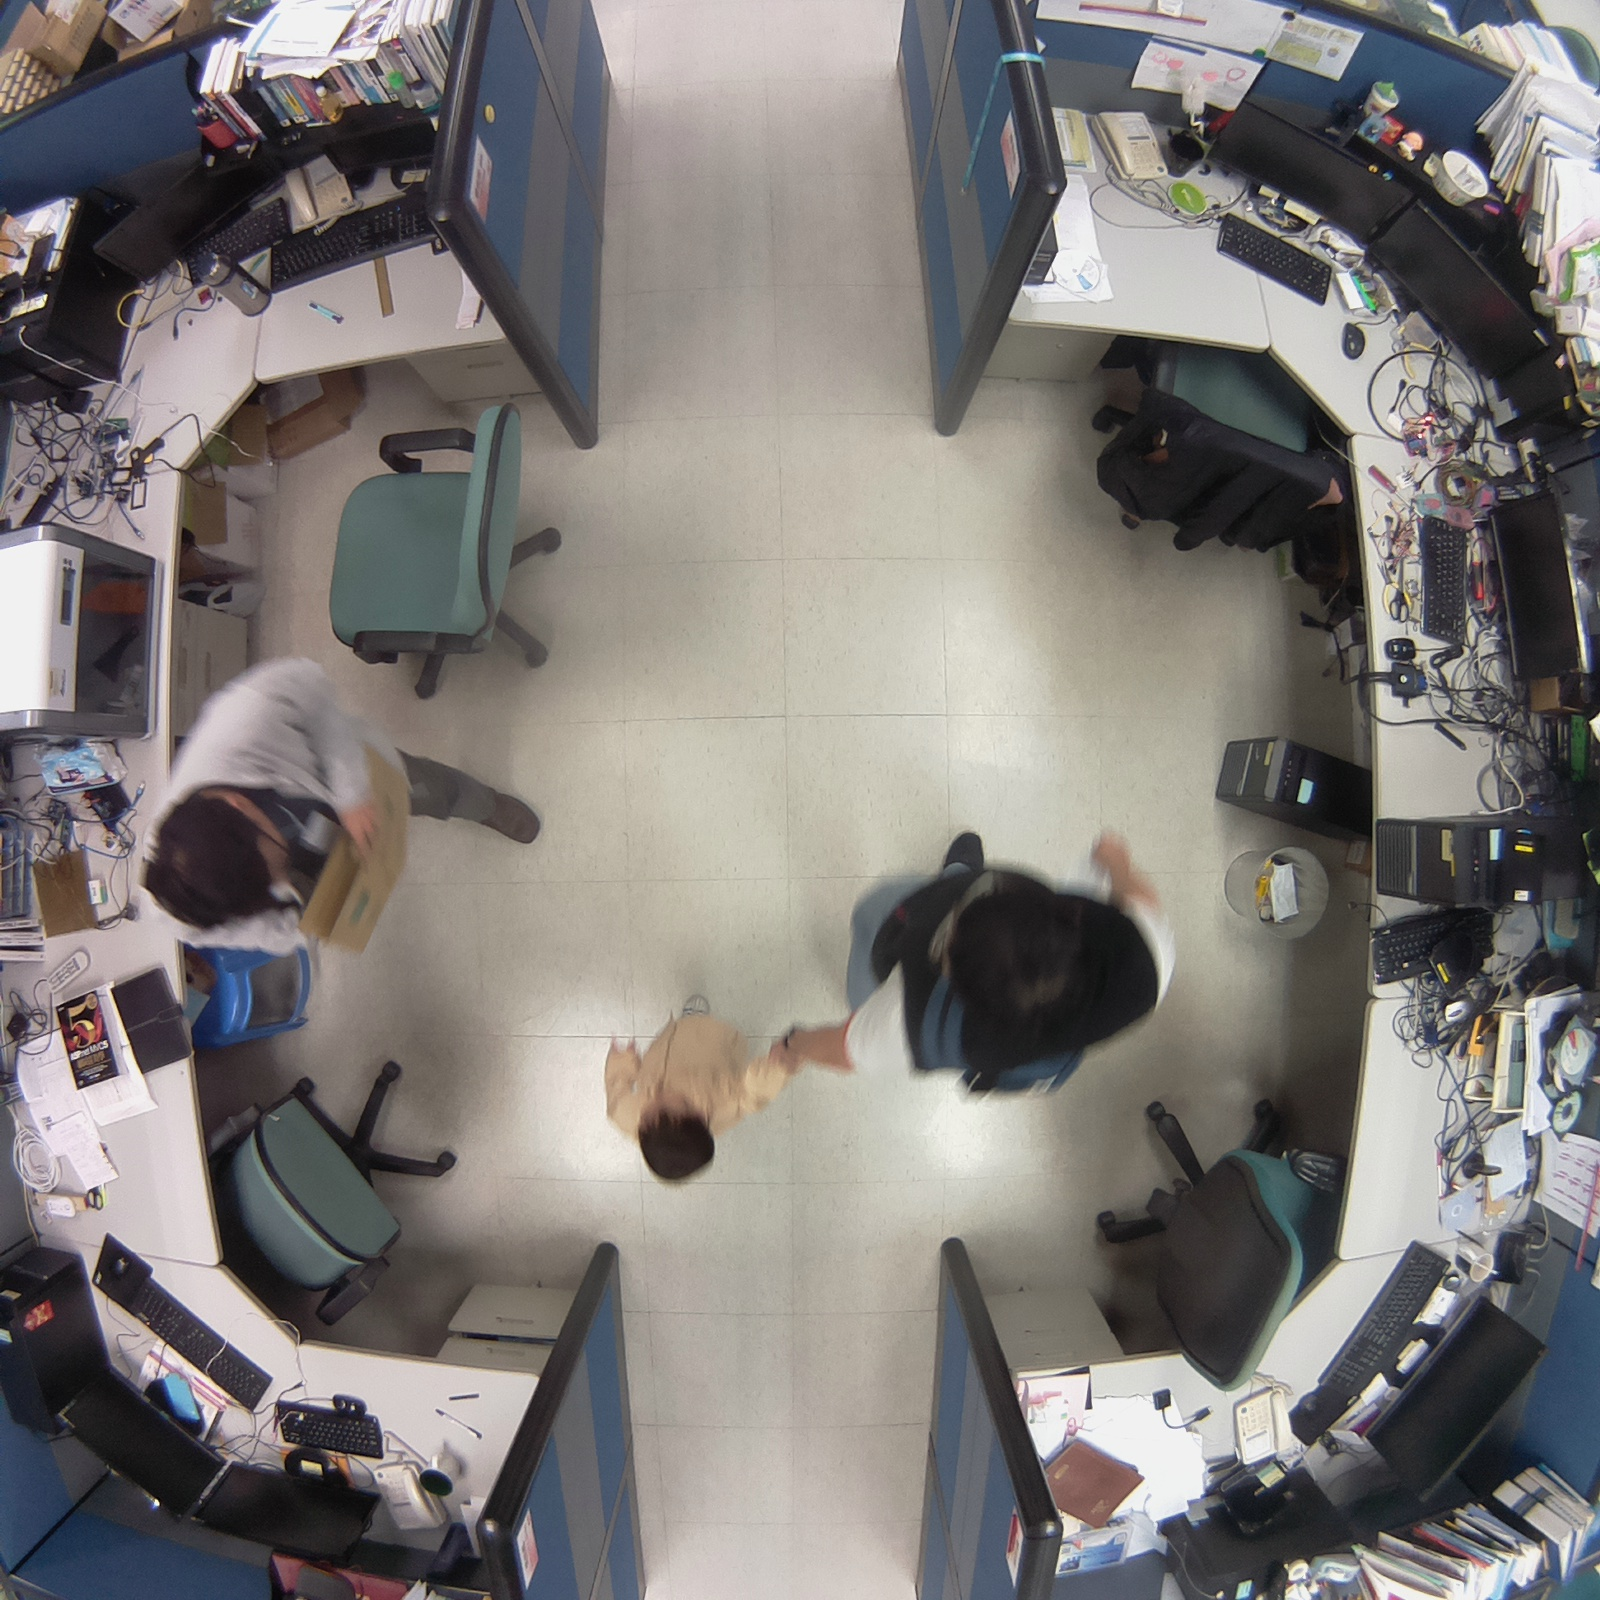chair: (1078, 1088, 1378, 1409), (291, 391, 588, 714), (191, 1029, 491, 1340), (1070, 314, 1358, 570)
head: (938, 870, 1121, 1110), (138, 776, 295, 936), (625, 1087, 719, 1191)
walking: (115, 652, 548, 957), (816, 812, 1187, 1114), (587, 981, 793, 1195)
